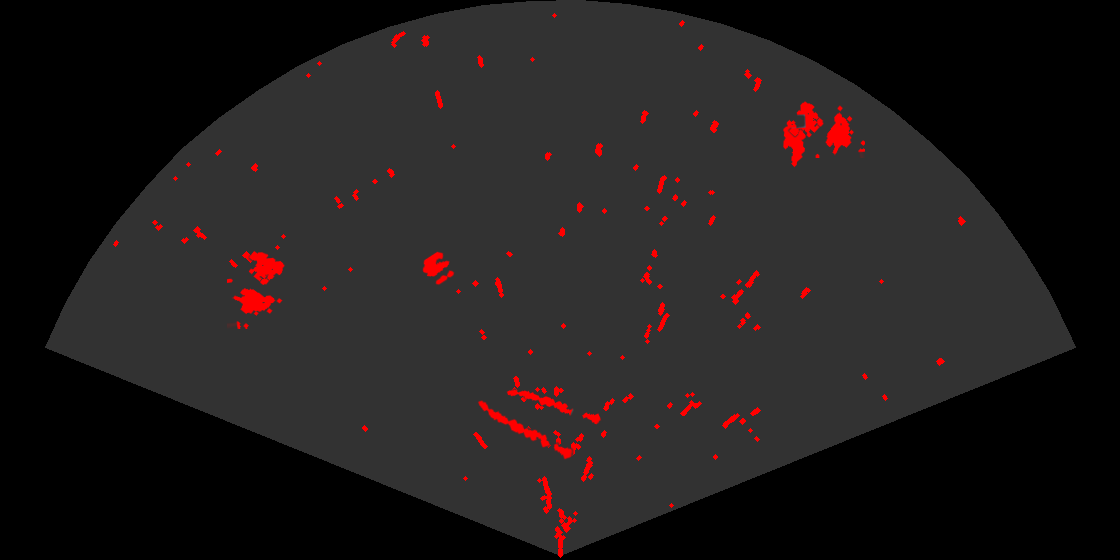AUV: (782, 118, 807, 169)
ball: (421, 250, 456, 287)
cage: (227, 249, 286, 329), (787, 100, 865, 158)
chain: (476, 399, 574, 461), (505, 388, 603, 426)
